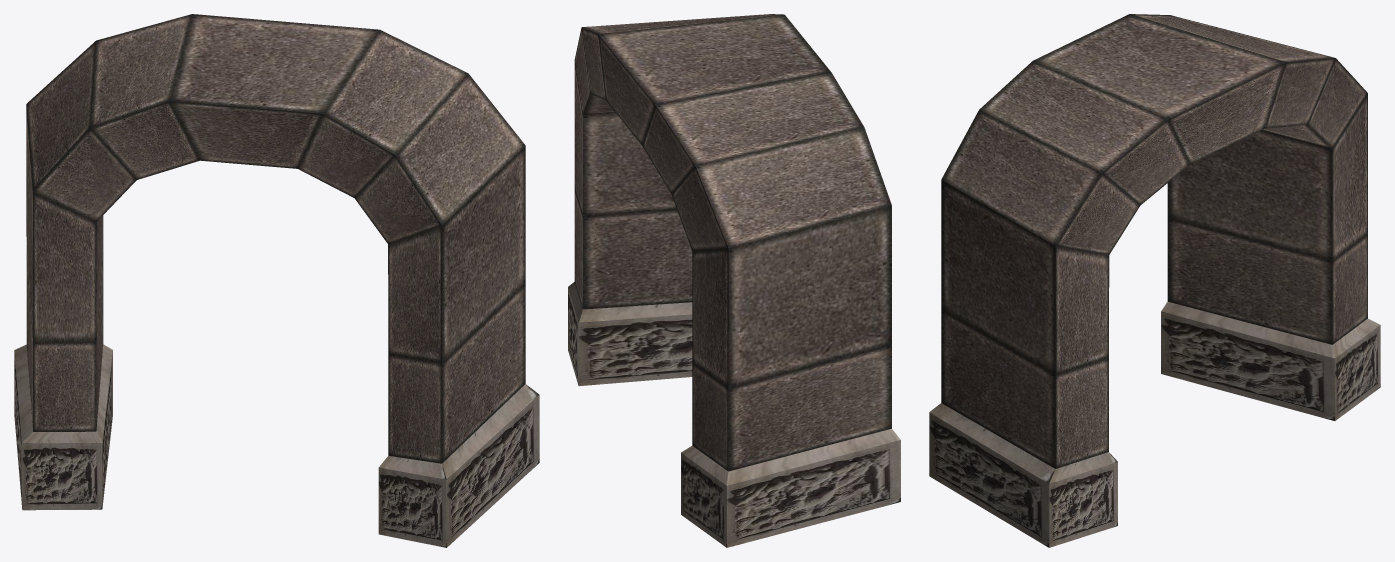
The model's file is doorx31.obj.
3 renders of one model, left to right at view 1: azimuth 30°, elevation 25°; view 2: azimuth 150°, elevation 25°; view 3: azimuth 270°, elevation 25°, orthographic. The views are drawn at different scales.
Parts seen in each view (by area): view 1: doorx31; view 2: doorx31; view 3: doorx31.
Boxes of the visible parts, bbox=[...] form: doorx31: bbox=[14, 14, 539, 547]; doorx31: bbox=[568, 14, 900, 547]; doorx31: bbox=[929, 14, 1380, 547].
Bounding box in the file's own units: 147 × 131 × 140.
